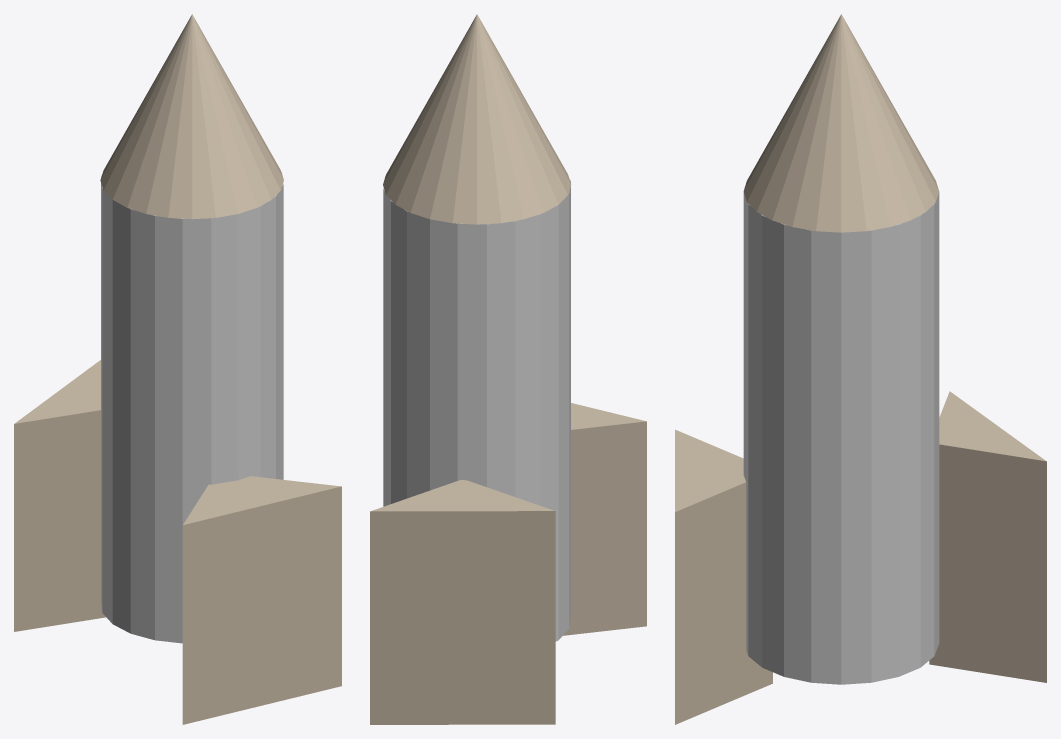
File: Cool Rottis-Kup.glb
The picture shows the model from 3 angles, left to right: view 1: azimuth 30°, elevation 25°; view 2: azimuth 150°, elevation 25°; view 3: azimuth 270°, elevation 25°; orthographic projection. The views are drawn at different scales.
Visible parts, largest first — view 1: Mesh_Mesh_head_geo.001_lambert2SG.001; view 2: Mesh_Mesh_head_geo.001_lambert2SG.001; view 3: Mesh_Mesh_head_geo.001_lambert2SG.001.
Boxes of the visible parts, left/top/right/bottom form: Mesh_Mesh_head_geo.001_lambert2SG.001: left=14, top=14, right=341, bottom=724; Mesh_Mesh_head_geo.001_lambert2SG.001: left=370, top=14, right=646, bottom=724; Mesh_Mesh_head_geo.001_lambert2SG.001: left=675, top=14, right=1046, bottom=724.
Size of the model in its own units: 26 by 76 by 38.
